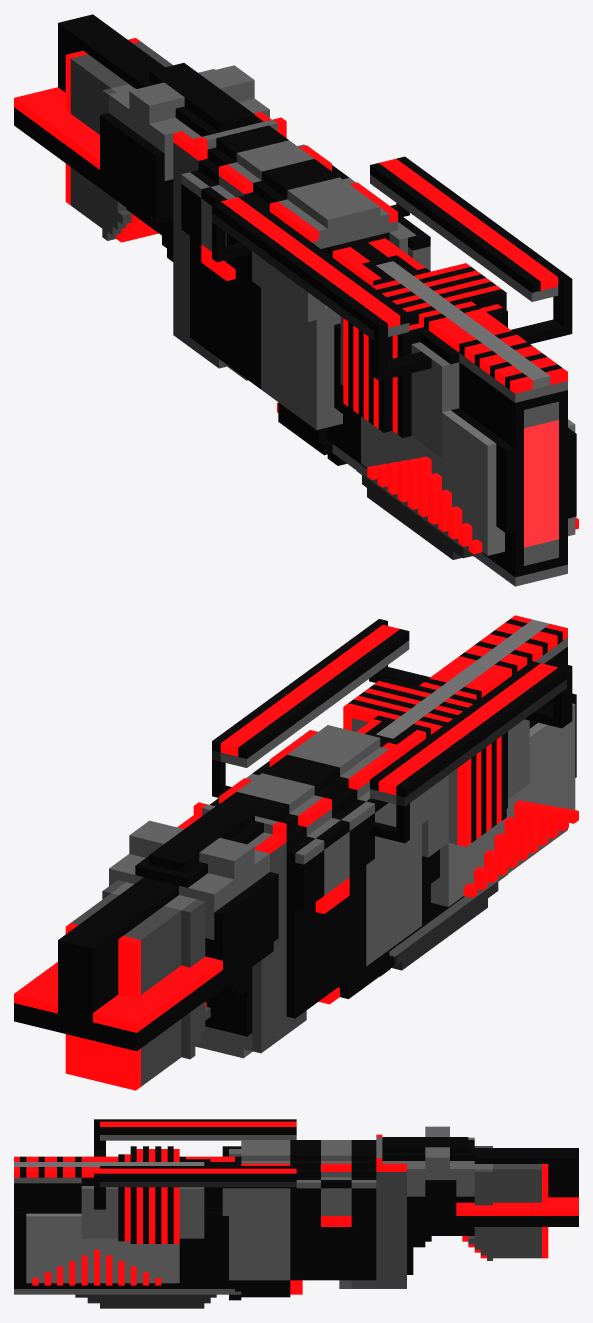
3 renders of one model, top to bottom at view 1: azimuth 30°, elevation 25°; view 2: azimuth 150°, elevation 25°; view 3: azimuth 270°, elevation 25°, orthographic. The views are drawn at different scales.
Parts seen in each view (by area): view 1: Object_2; view 2: Object_2; view 3: Object_2.
Boxes of the visible parts, <box> form: Object_2: <box>14,14,578,586</box>; Object_2: <box>14,615,578,1090</box>; Object_2: <box>14,1119,578,1308</box>.
Size of the model in its own units: 22 by 29 by 92.
Materials: 1 (1 with a texture image).
